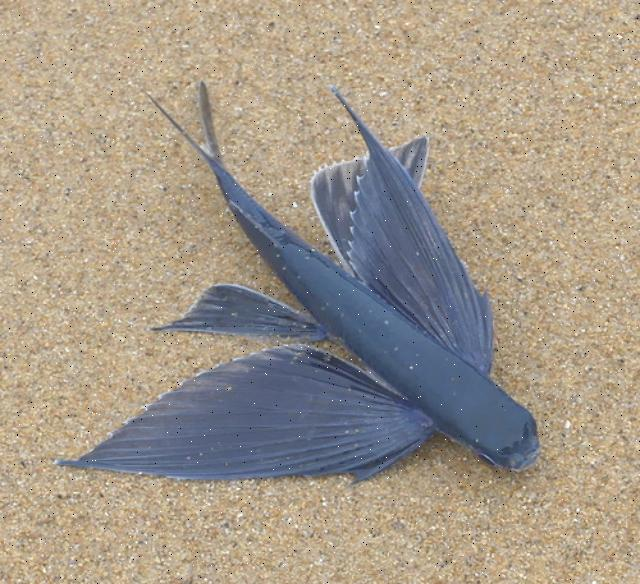Sirip Dada: (46, 333, 448, 515), (315, 76, 515, 384)
Sirip Ekor: (124, 58, 252, 200)
